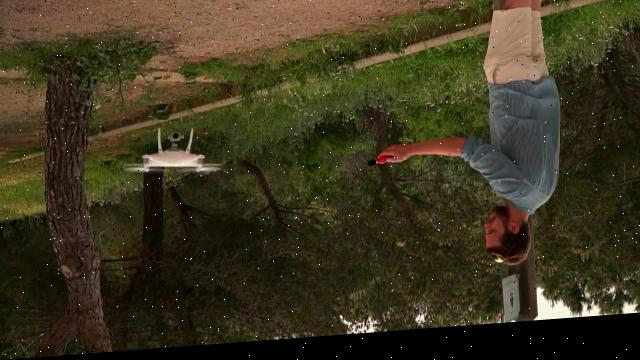drone: (119, 130, 227, 186)
